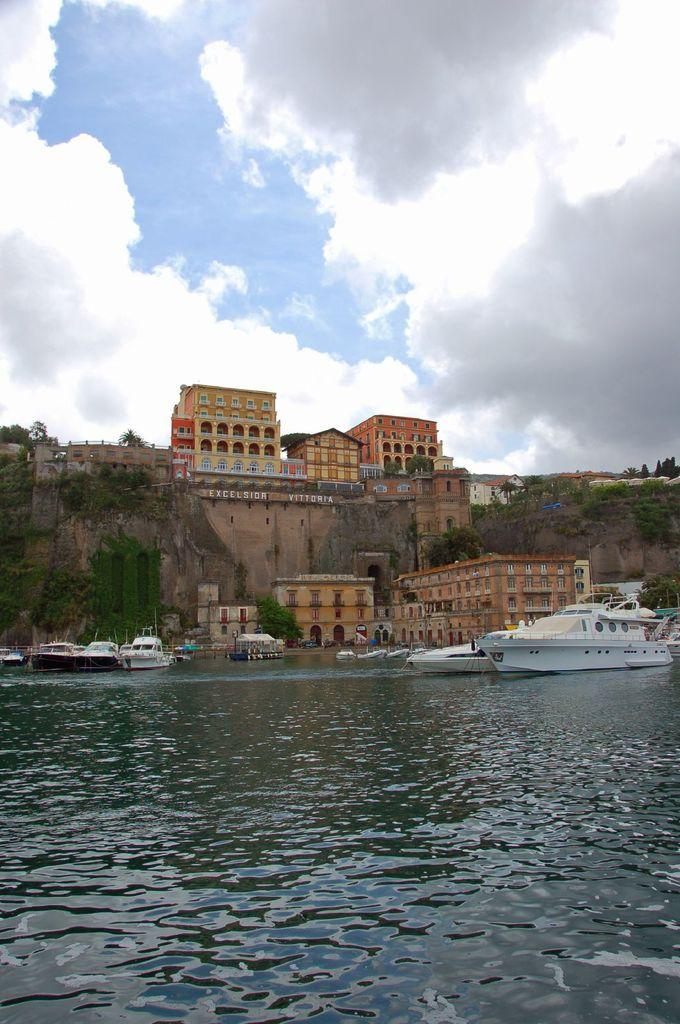PassengerShip: (470, 592, 680, 674)
